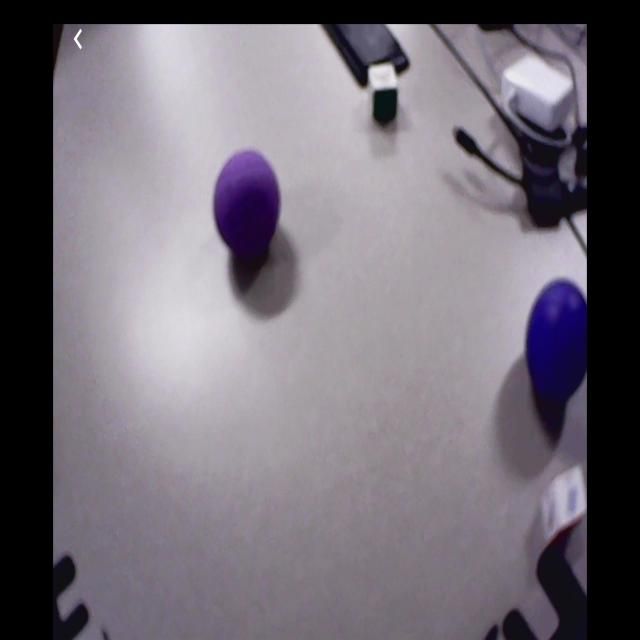ball: (528, 281, 588, 403), (215, 153, 282, 254)
